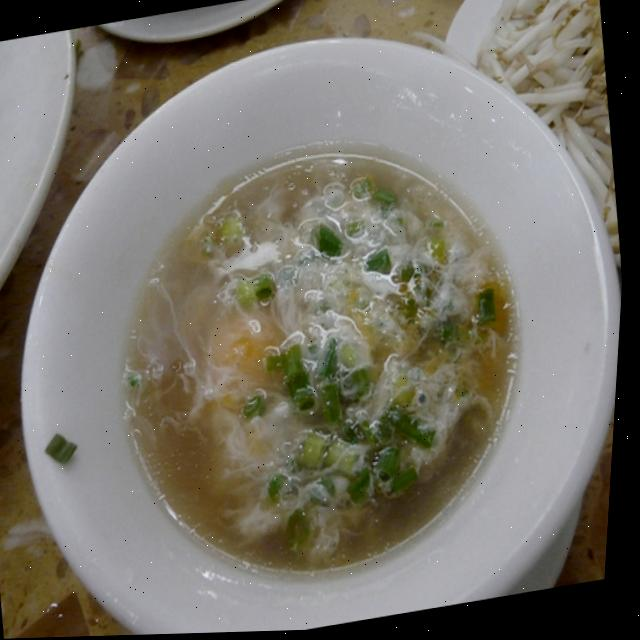面条主食: (0, 5, 639, 639)
